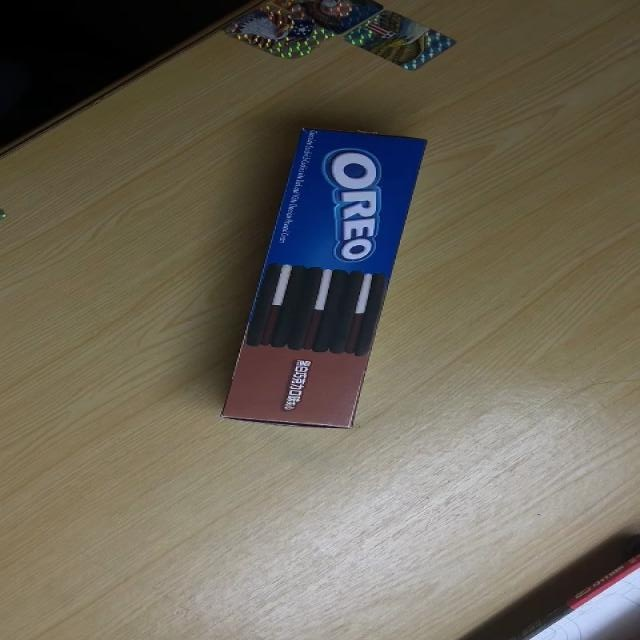Oreo: (220, 125, 431, 432)
